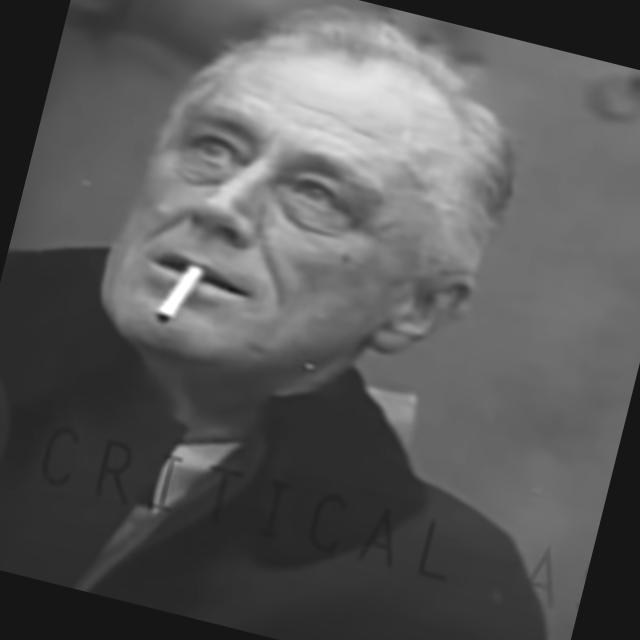cigarette: (154, 260, 209, 338)
